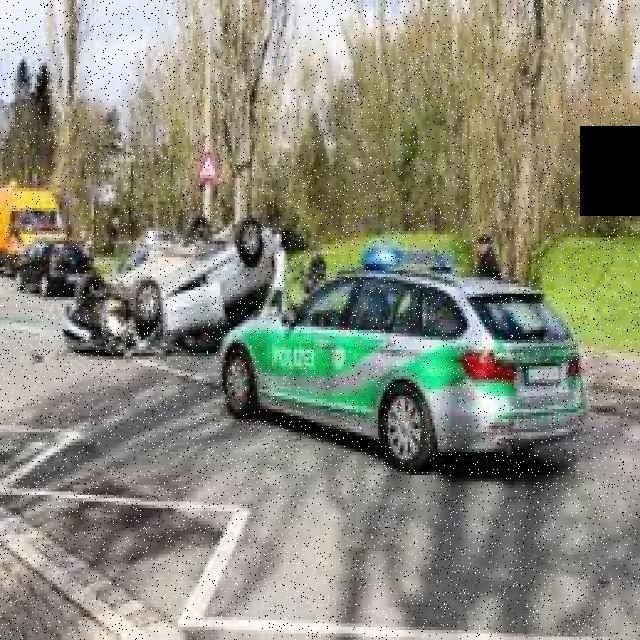multiple_accident: (29, 173, 406, 420)
